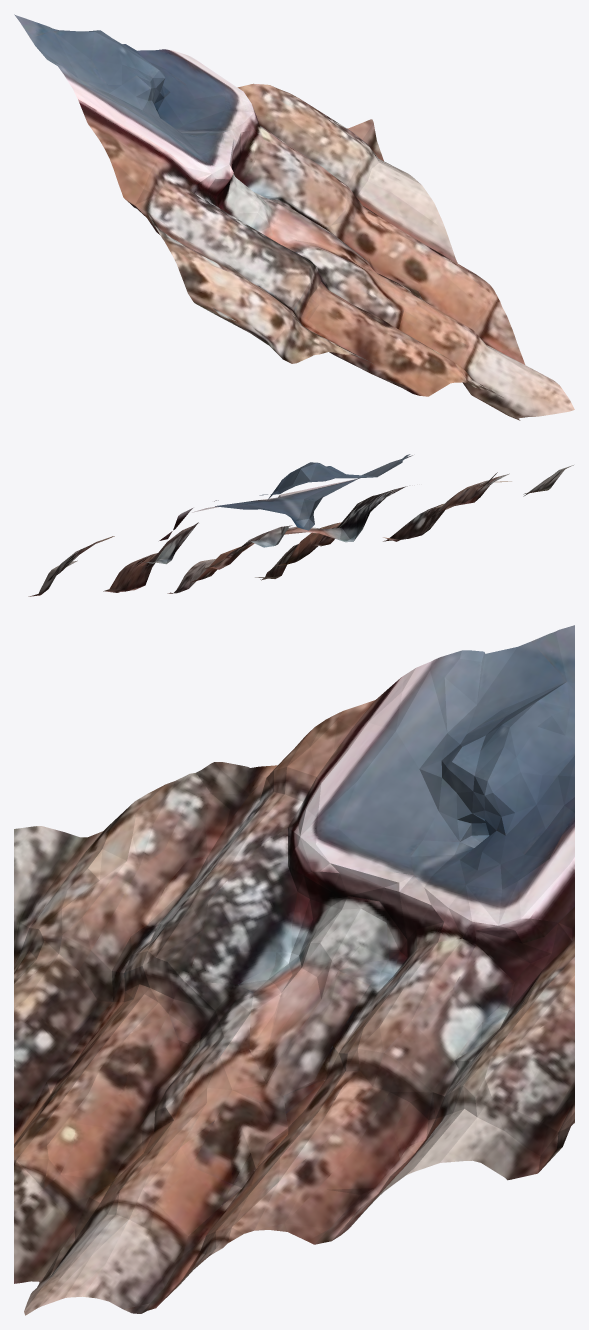
3 views of the same model, one above another, from view 1: azimuth 30°, elevation 25°; view 2: azimuth 150°, elevation 25°; view 3: azimuth 270°, elevation 25° (orthographic). The views are drawn at different scales.
Size of the model in its own units: 0.8373 by 0.7472 by 0.8373.
Materials: 3 (3 with a texture image).
